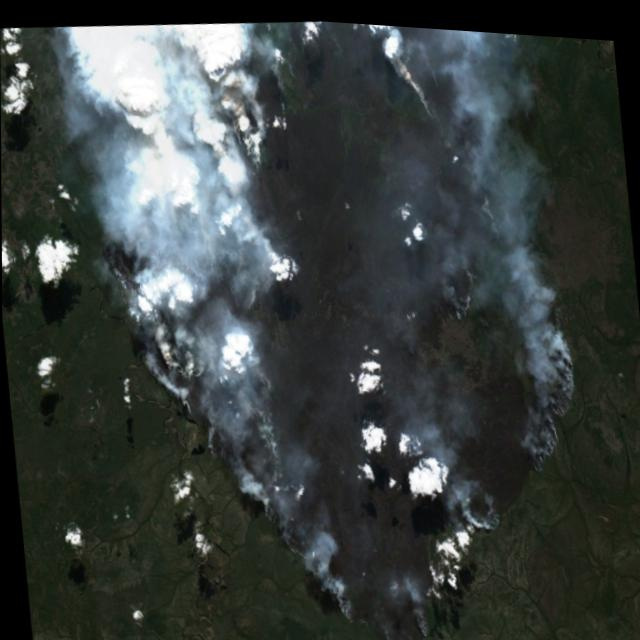fire: (85, 4, 604, 640)
